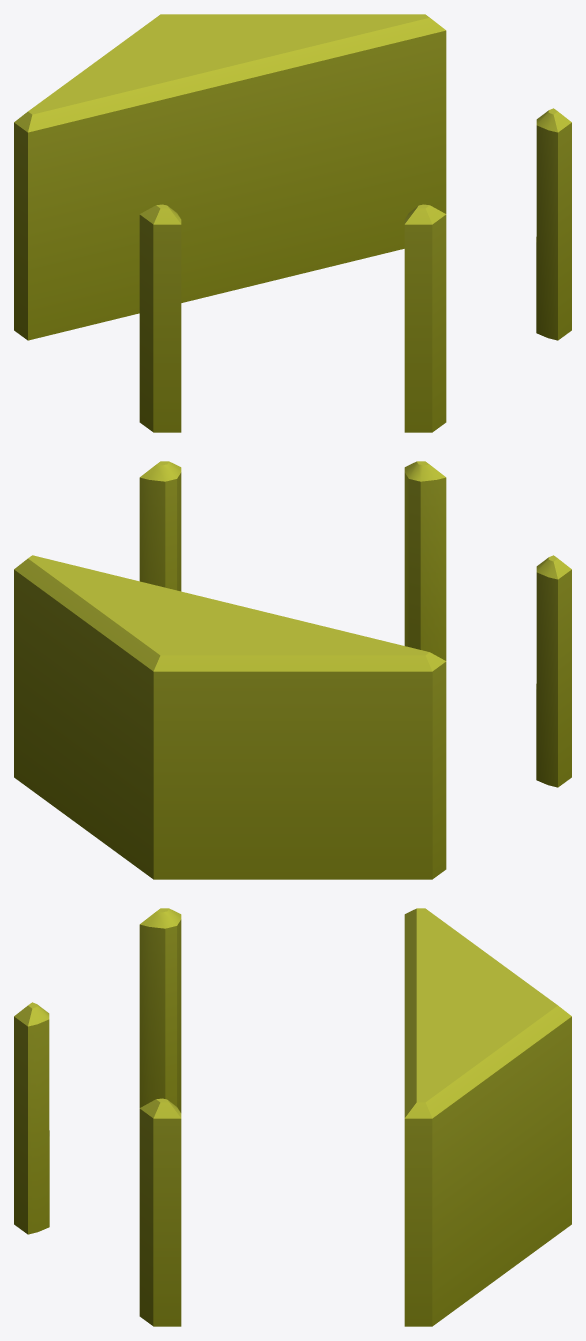
The model's file is hex_river_J_waterless.glb.
3 renders of one model, top to bottom at view 1: azimuth 30°, elevation 25°; view 2: azimuth 150°, elevation 25°; view 3: azimuth 270°, elevation 25°, orthographic.
Visible parts, largest first — view 1: hex_river_J_waterless; view 2: hex_river_J_waterless; view 3: hex_river_J_waterless.
Part boxes in pixels (x1=…): hex_river_J_waterless: x1=14, y1=14, x2=571, y2=432; hex_river_J_waterless: x1=14, y1=461, x2=571, y2=879; hex_river_J_waterless: x1=14, y1=908, x2=571, y2=1326.
Bounding box in the file's own units: 2 × 1 × 2.31.
1 material, 1 textured.
